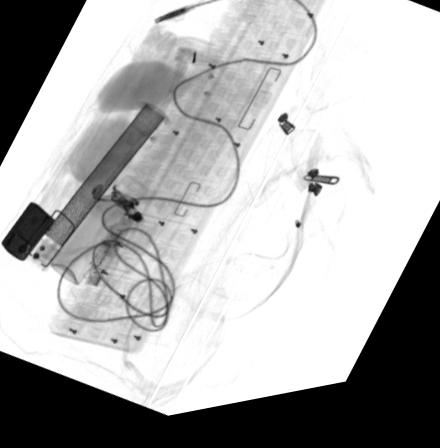Lighter: (0, 204, 53, 262)
Sprayer: (47, 179, 148, 288)
